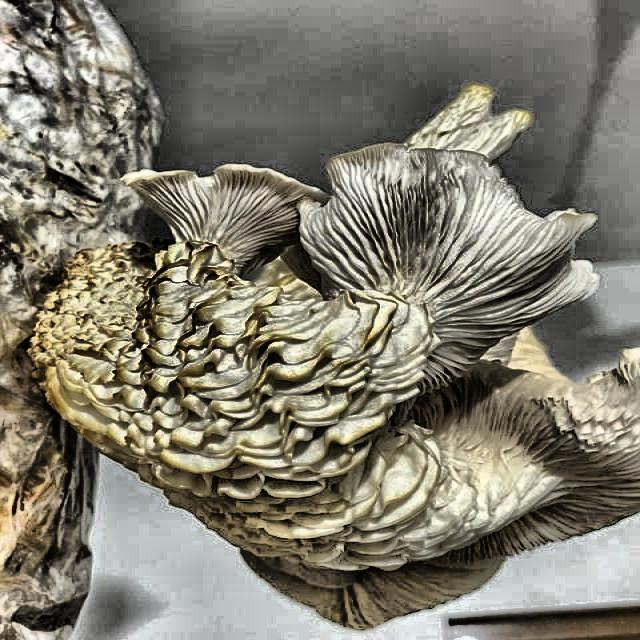Healthy: (127, 147, 417, 284), (197, 493, 472, 610), (502, 367, 640, 553)
